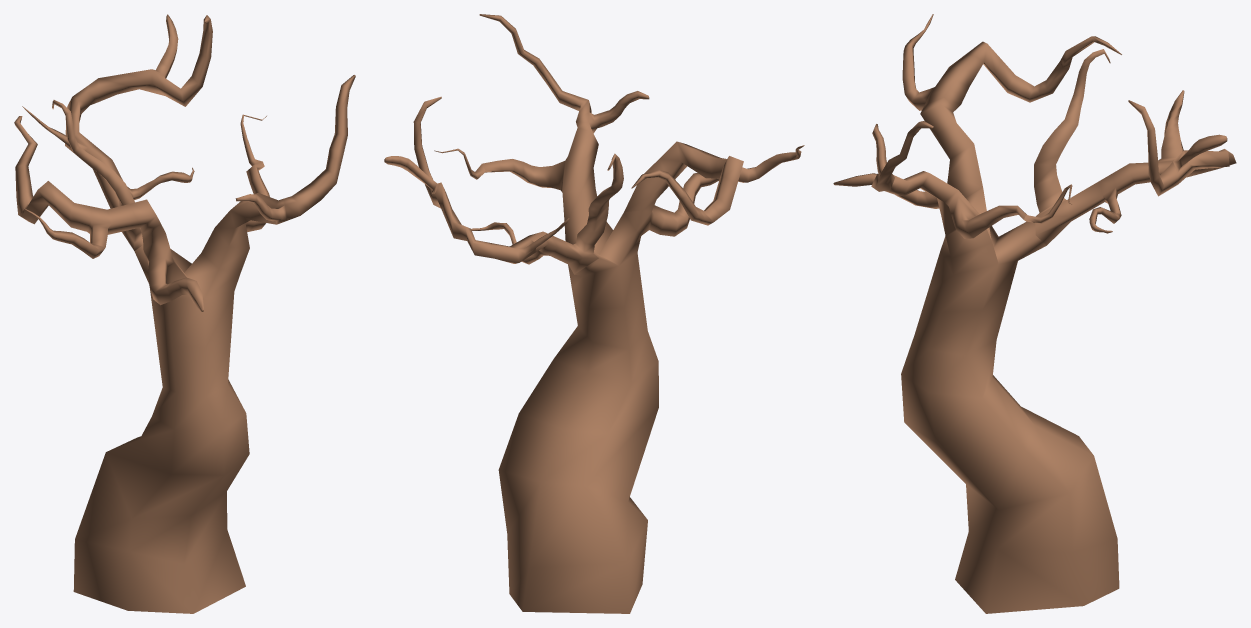
File: tree_2.fbx
3 renders of one model, left to right at view 1: azimuth 30°, elevation 25°; view 2: azimuth 150°, elevation 25°; view 3: azimuth 270°, elevation 25°, orthographic. The views are drawn at different scales.
Visible parts, largest first — view 1: tree_2; view 2: tree_2; view 3: tree_2.
Boxes of the visible parts, <box> form: tree_2: <box>14,14,355,613</box>; tree_2: <box>384,14,804,613</box>; tree_2: <box>833,14,1236,613</box>.
Bounding box in the file's own units: 616 × 909 × 625.
